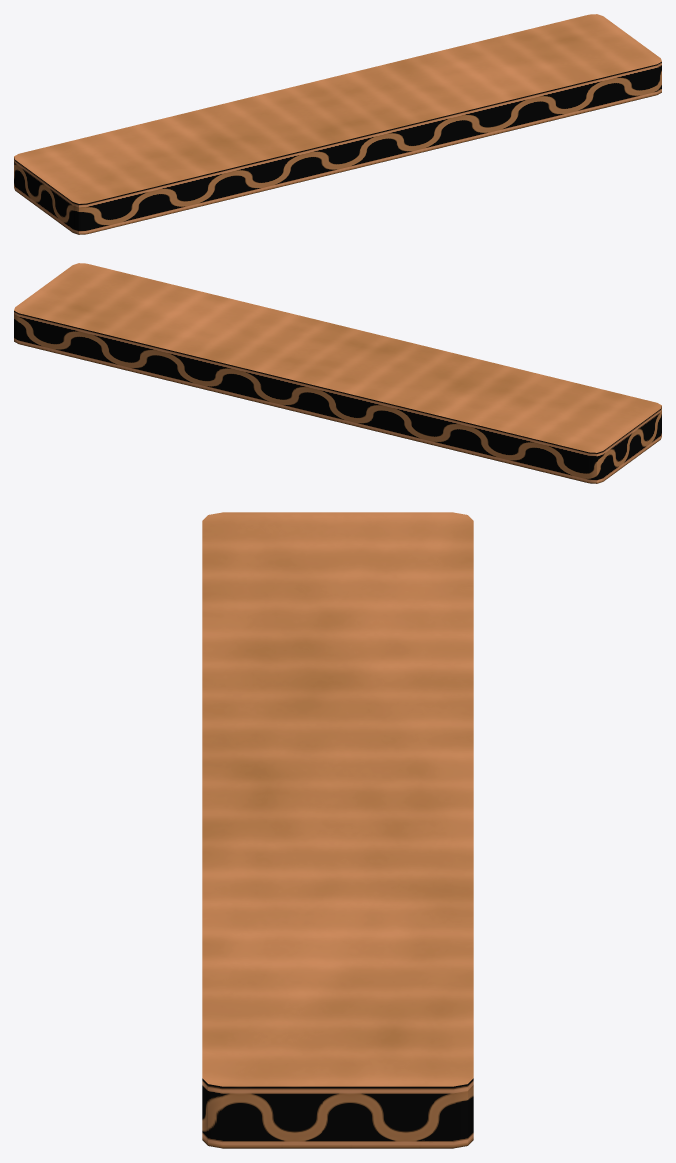
File: M_CardboardAssets_WallShelf.fbx
3 views of the same model, one above another, from view 1: azimuth 30°, elevation 25°; view 2: azimuth 150°, elevation 25°; view 3: azimuth 270°, elevation 25° (orthographic). The views are drawn at different scales.
Parts seen in each view (by area): view 1: M_CardboardAssets_WallShelf; view 2: M_CardboardAssets_WallShelf; view 3: M_CardboardAssets_WallShelf.
Part boxes in pixels (box(x1,y1,x2,y2)): M_CardboardAssets_WallShelf: box(14, 14, 661, 234); M_CardboardAssets_WallShelf: box(14, 263, 661, 483); M_CardboardAssets_WallShelf: box(202, 512, 473, 1148).
Bounding box in the file's own units: 4.06 × 0.2042 × 0.8117.
